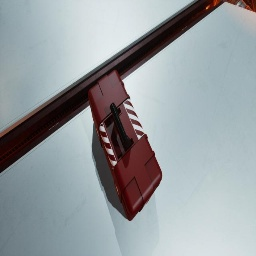FirstAidBox ,: (88, 70, 162, 221)
